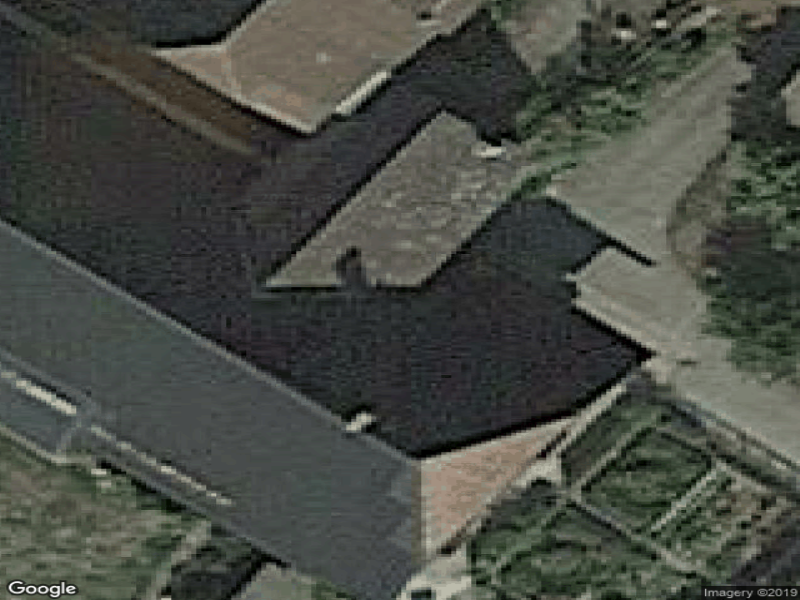pv: (1, 227, 415, 595)
